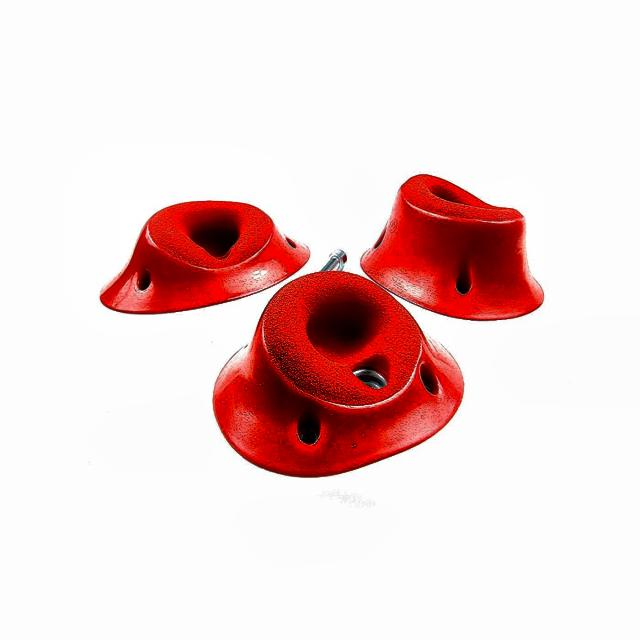Hold: (209, 270, 464, 478), (353, 169, 550, 321), (98, 195, 327, 314)
